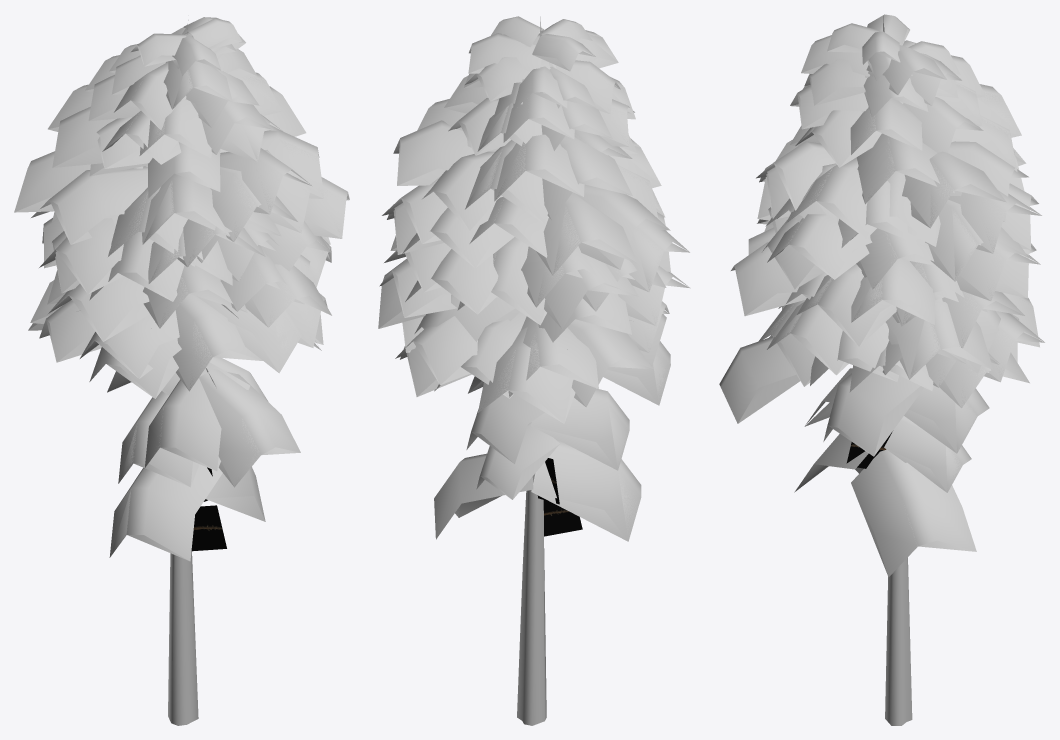
The model's file is Win_Sequia01.DAE.
3 views of the same model, side by side, from view 1: azimuth 30°, elevation 25°; view 2: azimuth 150°, elevation 25°; view 3: azimuth 270°, elevation 25° (orthographic).
Parts seen in each view (by area): view 1: Sequia512, Sequia256; view 2: Sequia512, Sequia256; view 3: Sequia512, Sequia256.
Part boxes in pixels (x1,y1,x2,y2): Sequia512: [14, 17, 349, 725]; Sequia256: [14, 34, 348, 560]; Sequia512: [378, 16, 689, 725]; Sequia256: [379, 33, 690, 541]; Sequia512: [719, 14, 1044, 725]; Sequia256: [731, 29, 1044, 574].
Size of what is drawn, in the model's own units: 9.91 by 10.26 by 24.45.
